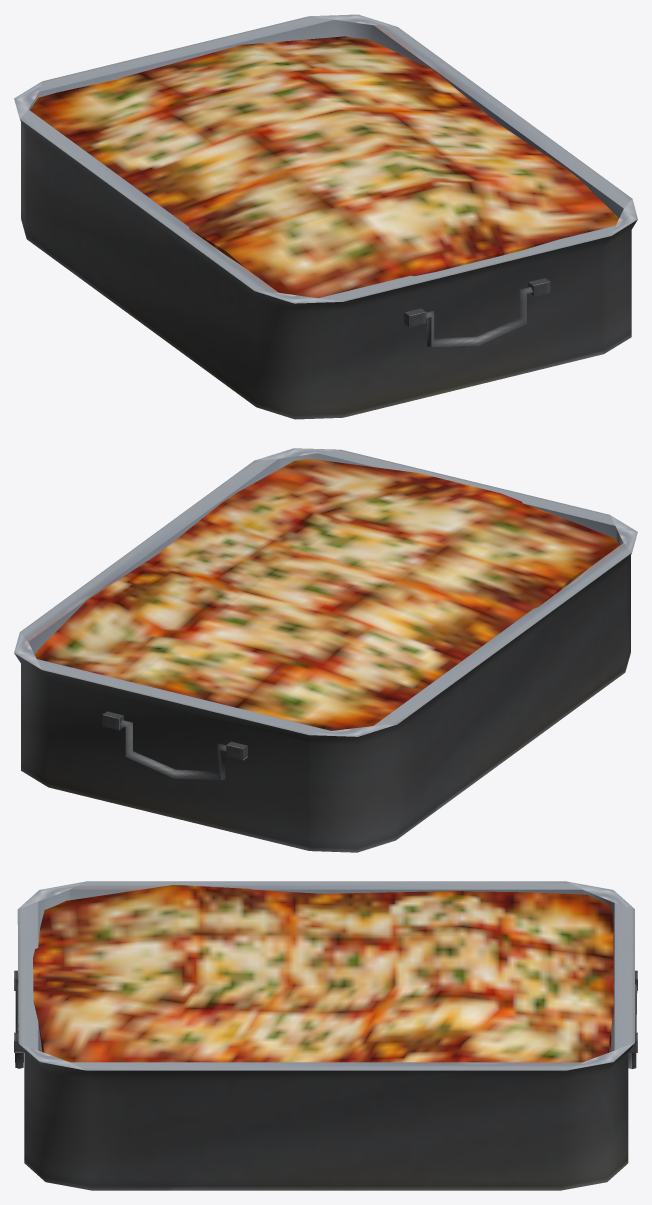
File: LasagnaPan.fbx
3 views of the same model, one above another, from view 1: azimuth 30°, elevation 25°; view 2: azimuth 150°, elevation 25°; view 3: azimuth 270°, elevation 25° (orthographic). The views are drawn at different scales.
Visible parts, largest first — view 1: LasagnaPan; view 2: LasagnaPan; view 3: LasagnaPan.
Boxes of the visible parts, bbox=[...] form: LasagnaPan: bbox=[14, 14, 637, 419]; LasagnaPan: bbox=[14, 448, 637, 852]; LasagnaPan: bbox=[14, 881, 637, 1190].
Bounding box in the file's own units: 49.78 × 16.64 × 69.43.
